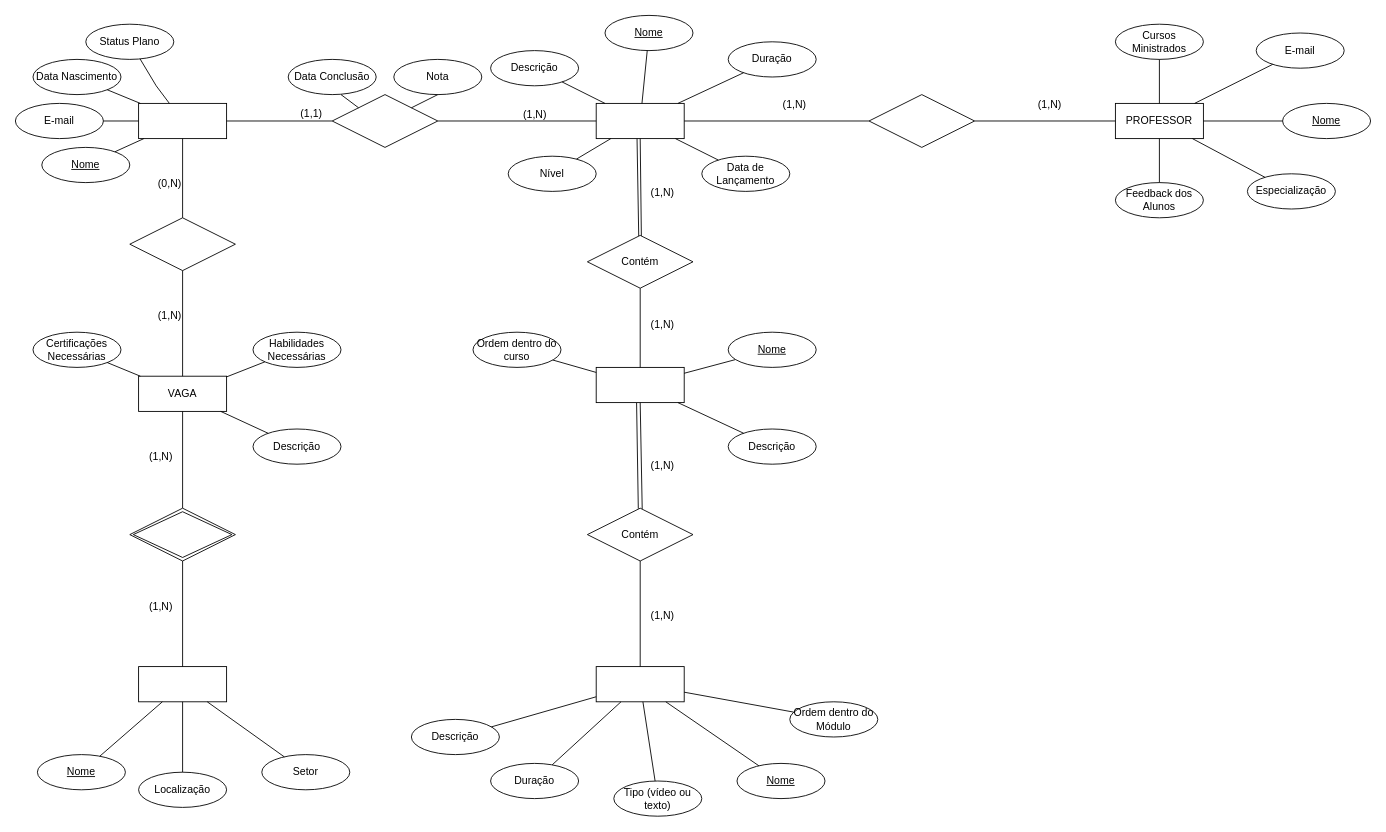
The diagram is 1386 pixels wide and 832 high, and some of its shapes have lost their labels. Each missing label, with the centre of its shape:
ALUNO: (182,121)
AULA: (639,684)
CURSO: (639,121)
EMPRESAS: (182,684)
Estudam: (384,120)
Ministram: (921,120)
MÓDULO: (639,385)
Oferecem: (182,534)
SE QUALIFICAM: (182,244)
